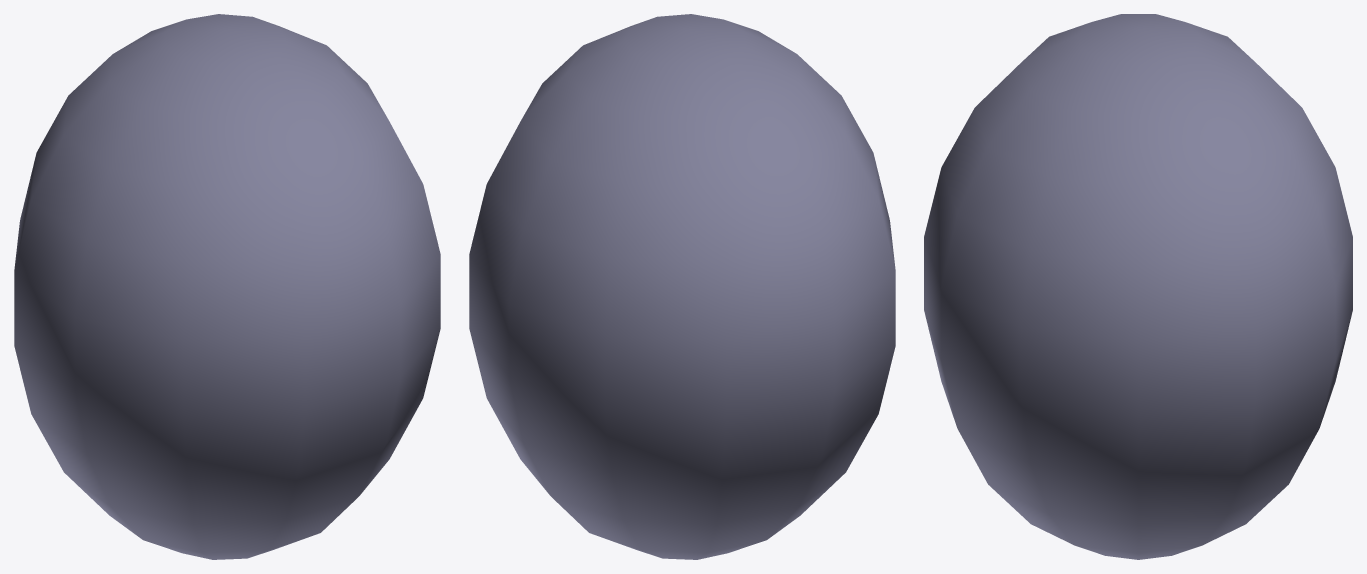
File: ferrunila_stage3.obj
3 renders of one model, left to right at view 1: azimuth 30°, elevation 25°; view 2: azimuth 150°, elevation 25°; view 3: azimuth 270°, elevation 25°, orthographic.
Bounding box in the file's own units: 2.72 × 3.64 × 2.74.
